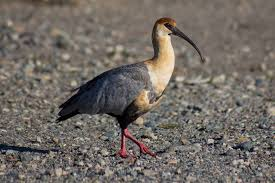Walking: (31, 13, 217, 165)
